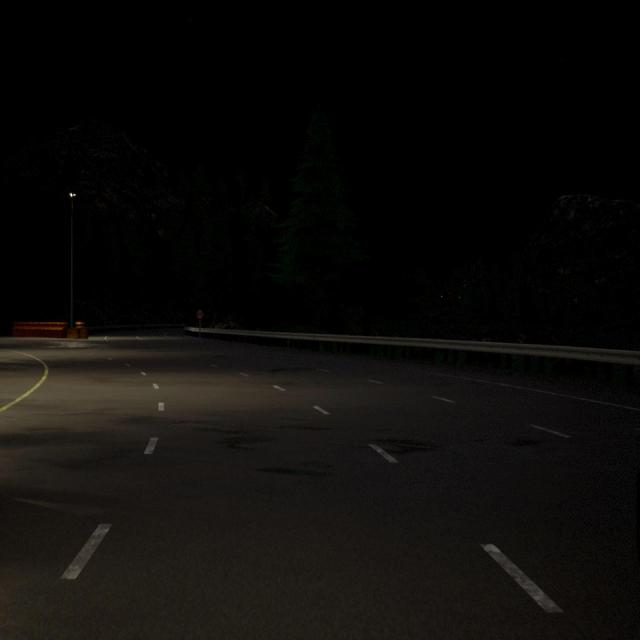Traffic_Signs: (197, 310, 203, 319)
